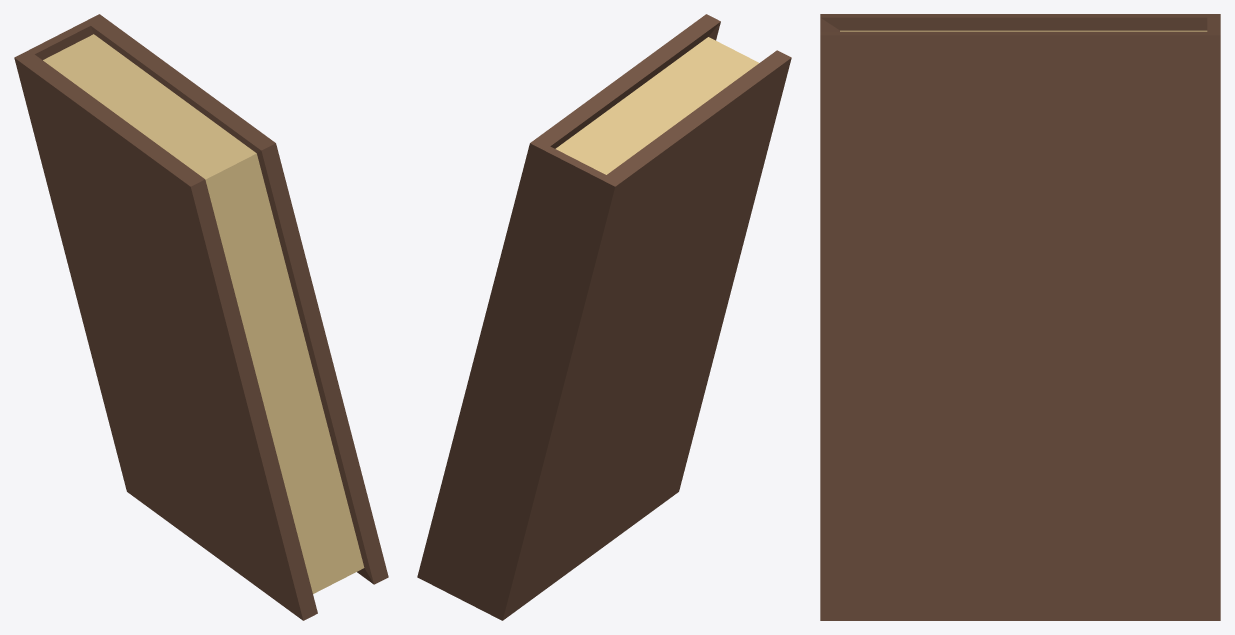
File: Book1_036.fbx
The picture shows the model from 3 angles, left to right: view 1: azimuth 30°, elevation 25°; view 2: azimuth 150°, elevation 25°; view 3: azimuth 270°, elevation 25°; orthographic projection. The views are drawn at different scales.
Visible parts, largest first — view 1: Book1.036; view 2: Book1.036; view 3: Book1.036.
Part boxes in pixels (x1=…): Book1.036: x1=14, y1=14, x2=388, y2=620; Book1.036: x1=417, y1=14, x2=791, y2=620; Book1.036: x1=820, y1=14, x2=1220, y2=620.
Size of the model in its own units: 29.15 by 68.14 by 45.
